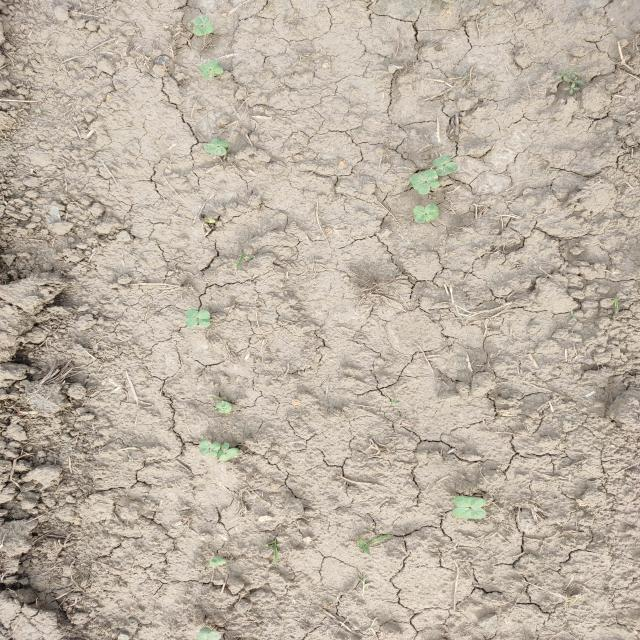seedling_s2: (410, 173, 430, 195), (452, 507, 487, 519), (453, 496, 486, 508), (196, 627, 221, 640), (435, 162, 458, 176), (423, 170, 440, 188), (204, 143, 227, 156), (192, 23, 214, 36), (185, 308, 199, 328), (219, 448, 239, 461), (199, 63, 214, 80), (189, 15, 210, 27), (425, 203, 438, 222), (432, 155, 452, 167), (206, 60, 223, 74), (413, 205, 426, 223), (197, 310, 210, 327), (199, 439, 211, 456), (210, 556, 227, 568), (217, 442, 229, 458), (209, 442, 221, 457), (216, 401, 233, 410), (211, 139, 229, 147), (218, 408, 230, 414)
